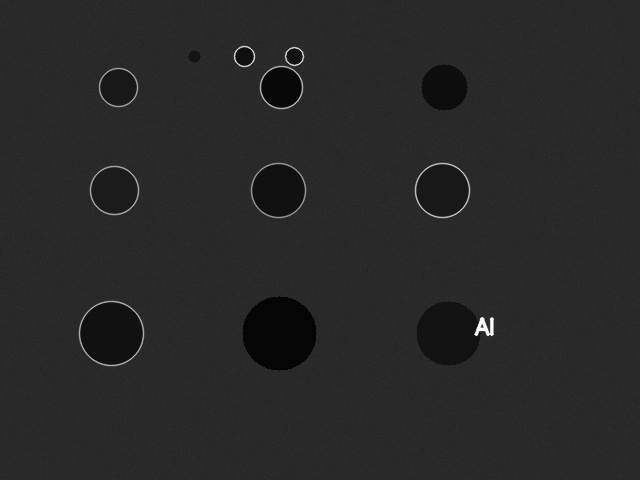hole: (242, 296, 316, 370), (79, 301, 143, 365), (416, 301, 480, 365), (251, 163, 305, 217), (415, 163, 469, 217), (90, 166, 138, 214), (421, 64, 467, 110), (260, 66, 302, 108), (99, 68, 137, 106), (234, 46, 254, 66), (285, 47, 303, 65), (188, 50, 200, 62)
